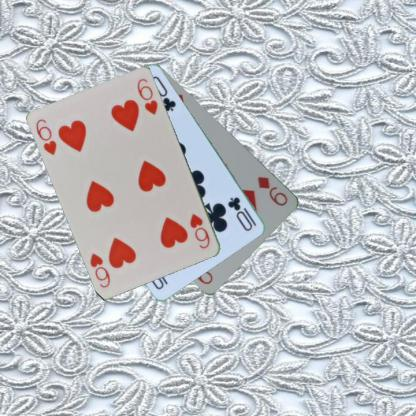10c: (226, 194, 258, 233)
6h: (186, 211, 212, 250), (34, 116, 58, 157)
9d: (255, 174, 289, 207)
